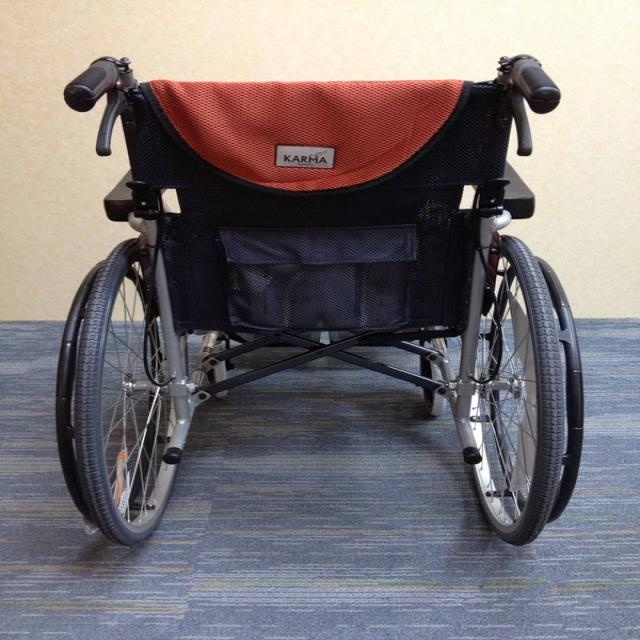wheelchairs: (43, 48, 602, 558)
